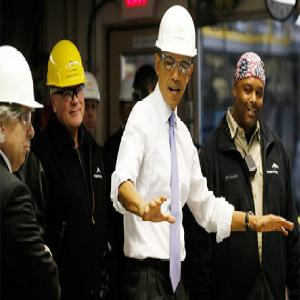none: (233, 48, 269, 124)
white: (2, 43, 37, 172), (155, 4, 199, 106), (83, 72, 102, 131)
yellow: (45, 39, 86, 130)
